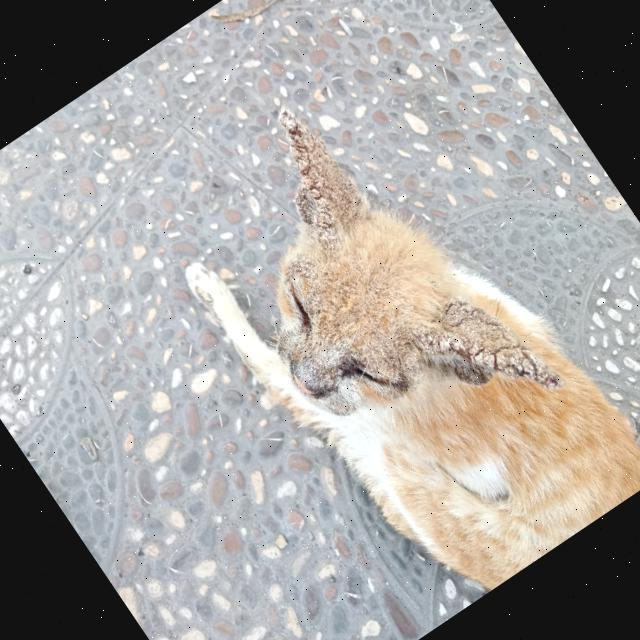cat-scabies: (237, 250, 404, 436), (396, 272, 568, 446), (235, 86, 379, 248)
